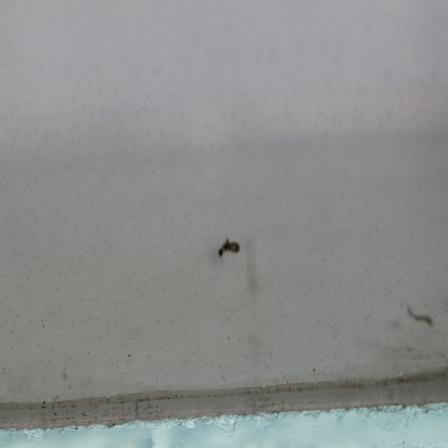Jentik-Nyamuk: (403, 304, 438, 329), (213, 235, 244, 258)
